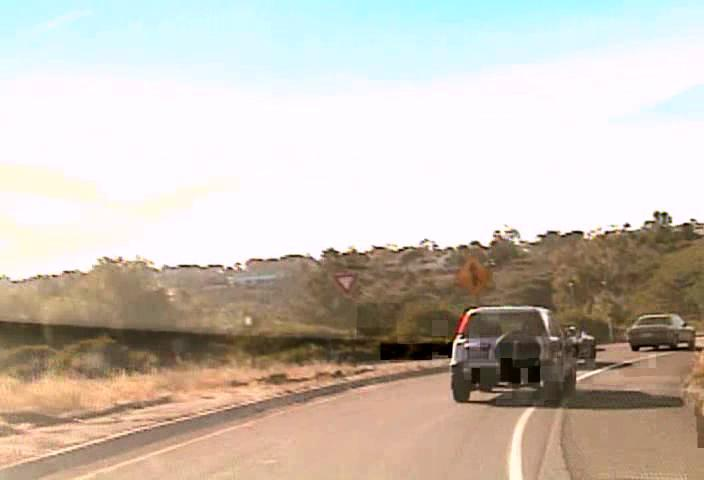yield: (331, 271, 358, 296)
